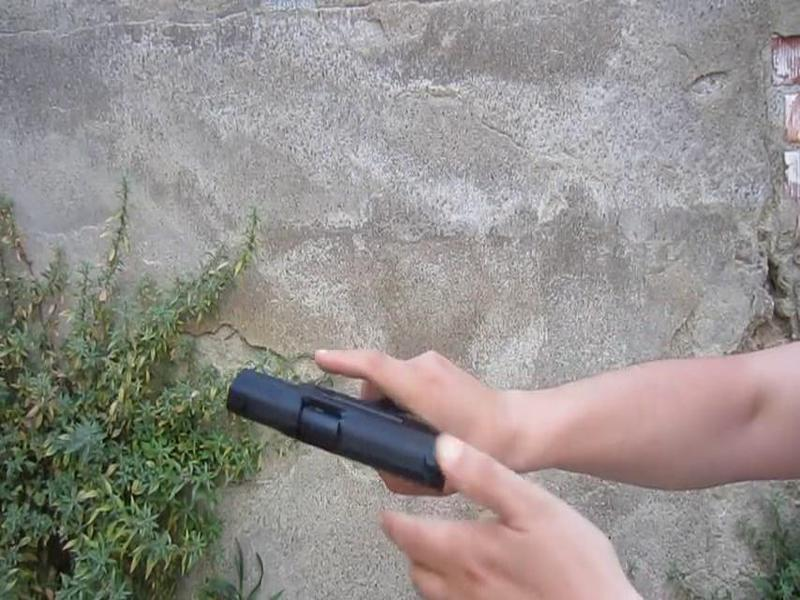Pistola: (217, 354, 460, 500)
